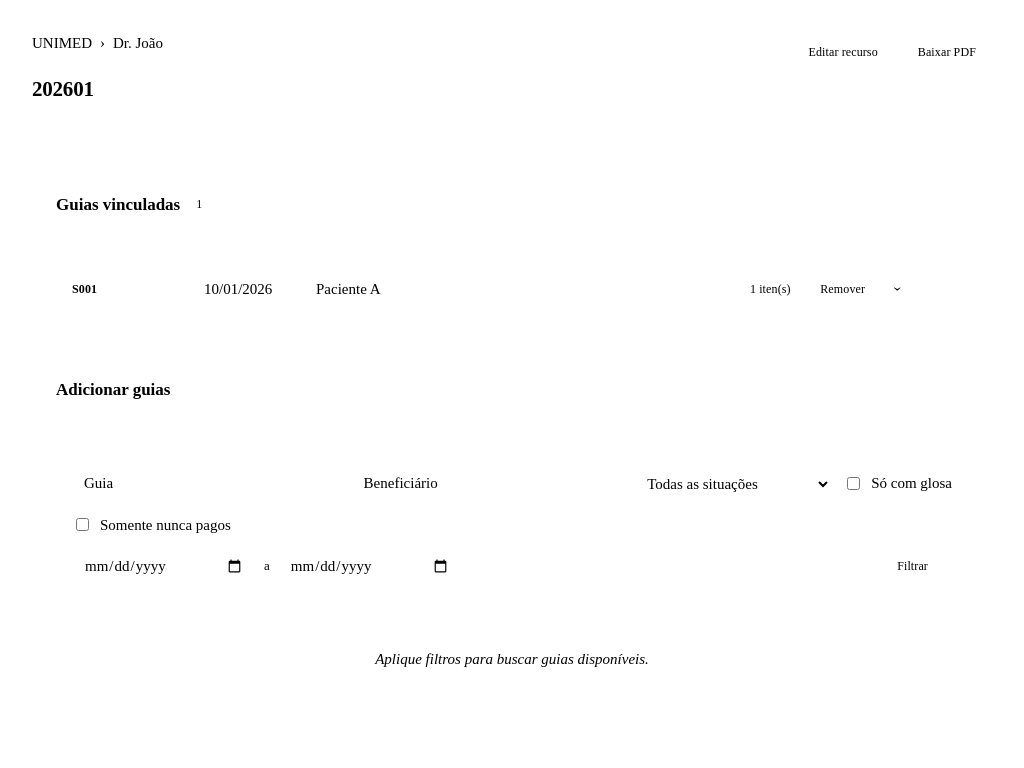
Test: RecursoGuiasComponent › deve_exibir_glosa_quando_valor_apurado_maior_que_liquidado
Step 1. Click the button with class "guia-card__header" → {"x": 238, "y": 289}, box [72,277,906,302]
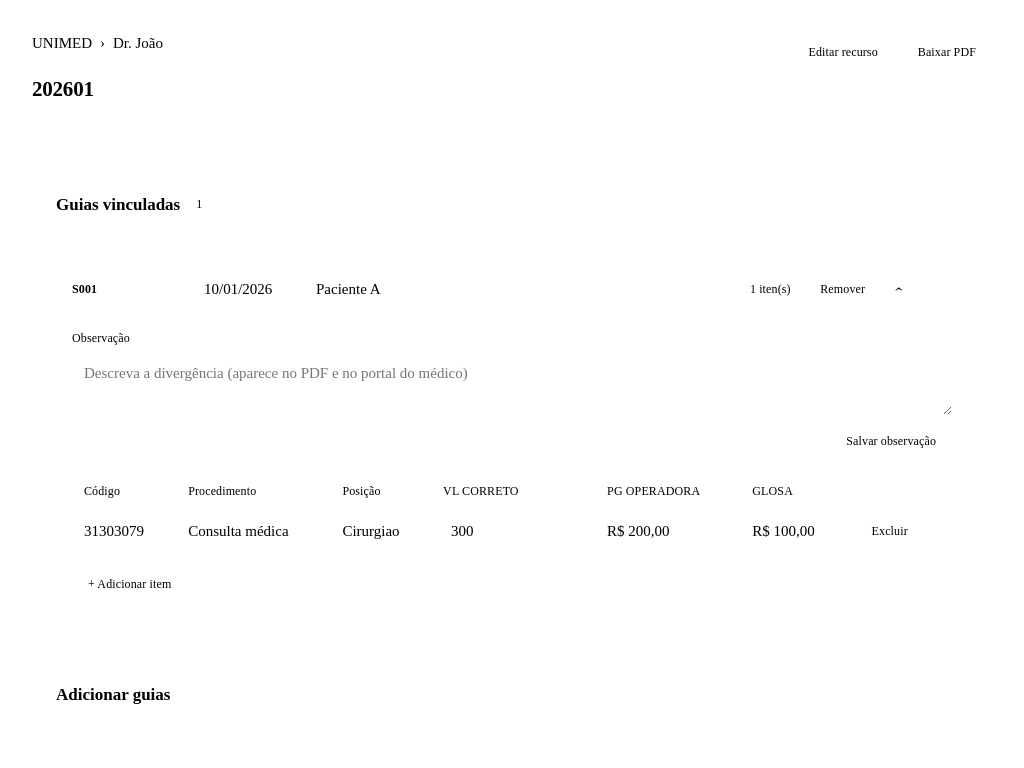
Expected: the cell with class "guia-card__glosa" is shown, [740,508,848,555]
